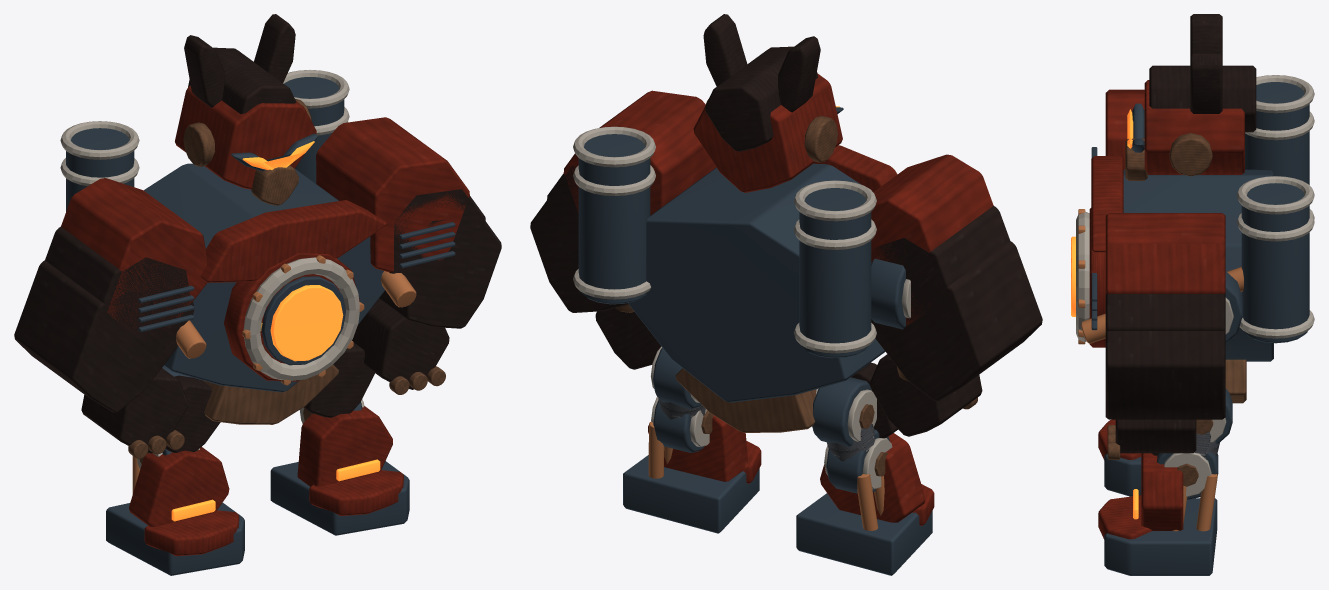
File: crucible_guard.glb
The picture shows the model from 3 angles, left to right: view 1: azimuth 30°, elevation 25°; view 2: azimuth 150°, elevation 25°; view 3: azimuth 270°, elevation 25°; orthographic projection. The views are drawn at different scales.
Parts seen in each view (by area): view 1: Navy crown.001, Upper chest plating, Reinforced heavy torso, Reactor concentric ring, Greave armor.002, Face guard, Greave armor.003, Reactor lens, Servo housing.005, Servo housing.010, Tapered thigh shield.003, Reactor lock (+1 smaller); view 2: Reinforced heavy torso, Navy crown.001, Upper chest plating, Servo housing.005, Servo housing.010, Reactor concentric ring, Face guard, Greave armor.002, Greave armor.003, Bearing ring.005, Calf piston.001, Calf piston.004 (+3 smaller); view 3: Navy crown.001, Reinforced heavy torso, Upper chest plating, Reactor concentric ring, Servo housing.010, Greave armor.003, Face guard, Servo housing.005, Bearing ring.014, Reactor lock, Calf piston.004, Reactor lens (+3 smaller).
Boxes of the visible parts, x1,y1,x2,y2 form: Navy crown.001: (14, 14, 501, 453); Upper chest plating: (61, 85, 469, 381); Reinforced heavy torso: (66, 77, 455, 392); Reactor concentric ring: (60, 70, 359, 380); Greave armor.002: (129, 446, 239, 556); Face guard: (128, 99, 445, 458); Greave armor.003: (297, 406, 403, 515); Reactor lens: (242, 141, 343, 361); Servo housing.005: (106, 366, 244, 575); Servo housing.010: (270, 402, 409, 535); Tapered thigh shield.003: (304, 342, 374, 417); Reactor lock: (176, 255, 416, 385); Reinforced heavy torso: (578, 107, 905, 402); Navy crown.001: (530, 14, 1042, 436); Upper chest plating: (563, 73, 993, 325); Servo housing.005: (796, 377, 932, 575); Servo housing.010: (623, 347, 759, 533); Reactor concentric ring: (573, 126, 910, 353); Face guard: (615, 99, 977, 432); Greave armor.002: (820, 433, 934, 525); Greave armor.003: (648, 415, 761, 483); Bearing ring.005: (811, 388, 892, 489); Calf piston.001: (857, 474, 884, 530); Calf piston.004: (648, 421, 672, 478); Navy crown.001: (1105, 14, 1256, 453); Reinforced heavy torso: (1091, 82, 1309, 361); Upper chest plating: (1089, 80, 1244, 347); Reactor concentric ring: (1076, 75, 1314, 341); Servo housing.010: (1104, 388, 1232, 575); Greave armor.003: (1098, 453, 1183, 539); Face guard: (1107, 133, 1246, 459); Servo housing.005: (1104, 454, 1141, 496); Bearing ring.014: (1164, 418, 1226, 496); Reactor lock: (1078, 209, 1243, 344); Calf piston.004: (1172, 474, 1217, 531); Reactor lens: (1071, 109, 1133, 316).
Bounding box in the file's own units: 1.52 × 1.64 × 0.7528.
10 materials, 4 textured.
